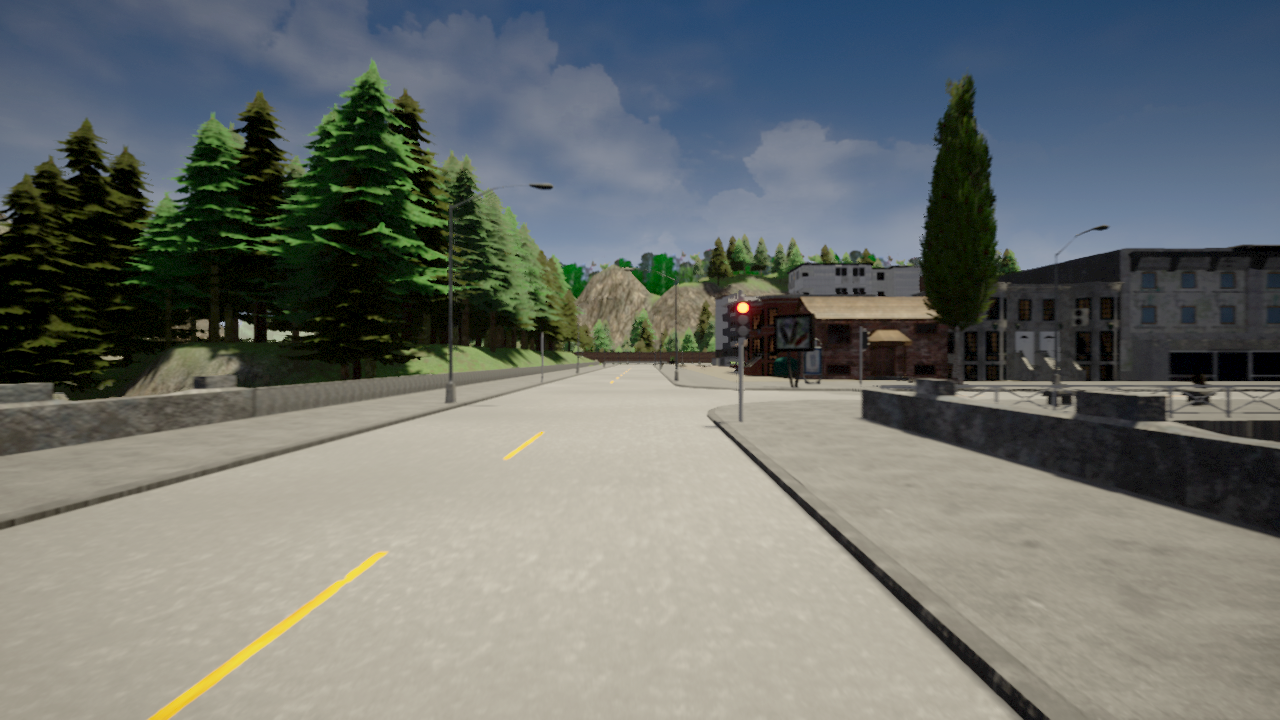red: (733, 301, 750, 338)
